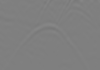hyperbola: (16, 21, 83, 61)
